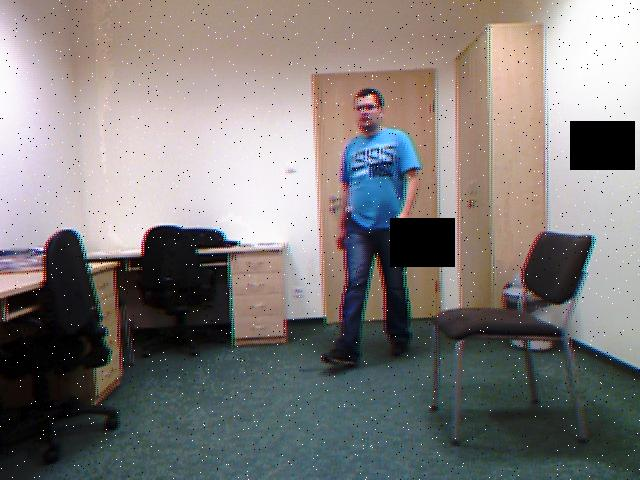walking: (317, 78, 423, 383)
